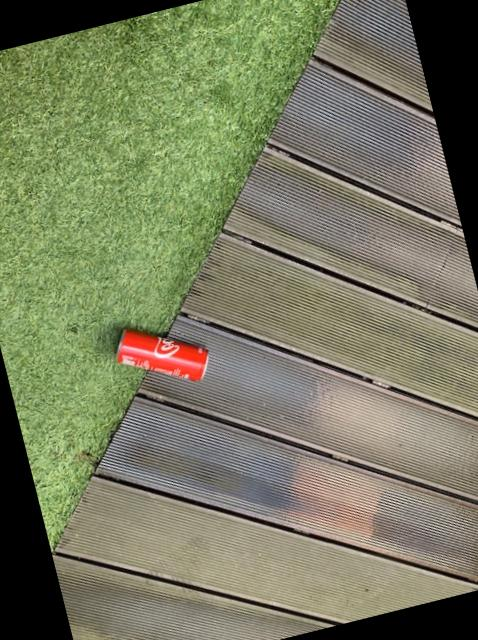metal: (53, 0, 478, 640)
